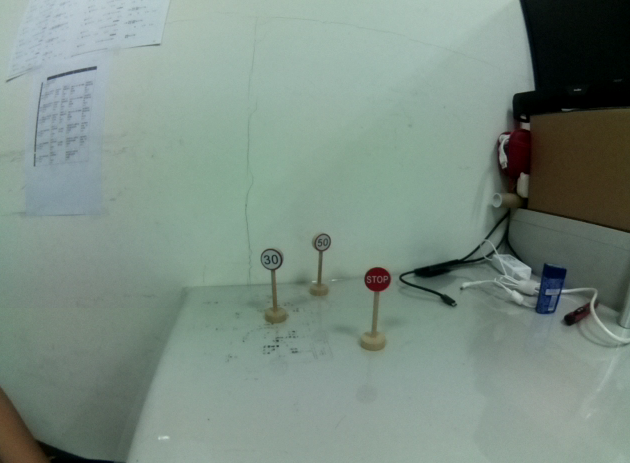Speed30: (259, 248, 286, 274)
Speed50: (311, 230, 333, 253)
Stop: (359, 263, 394, 293)
